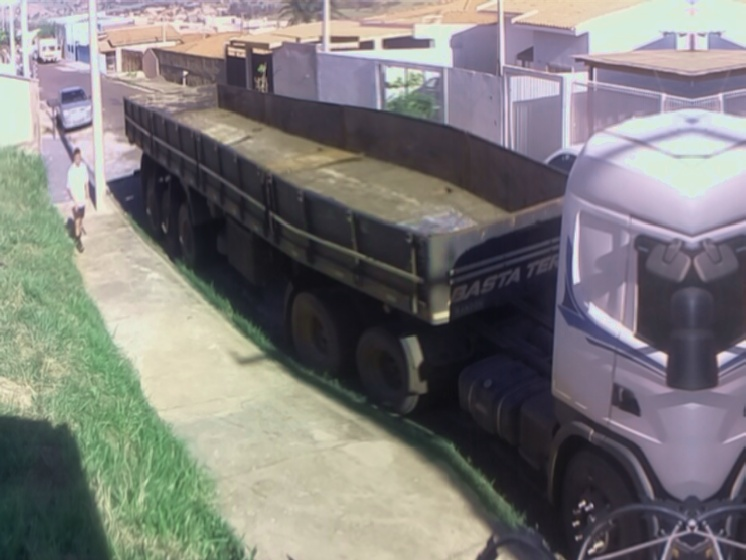person: (65, 147, 94, 256)
